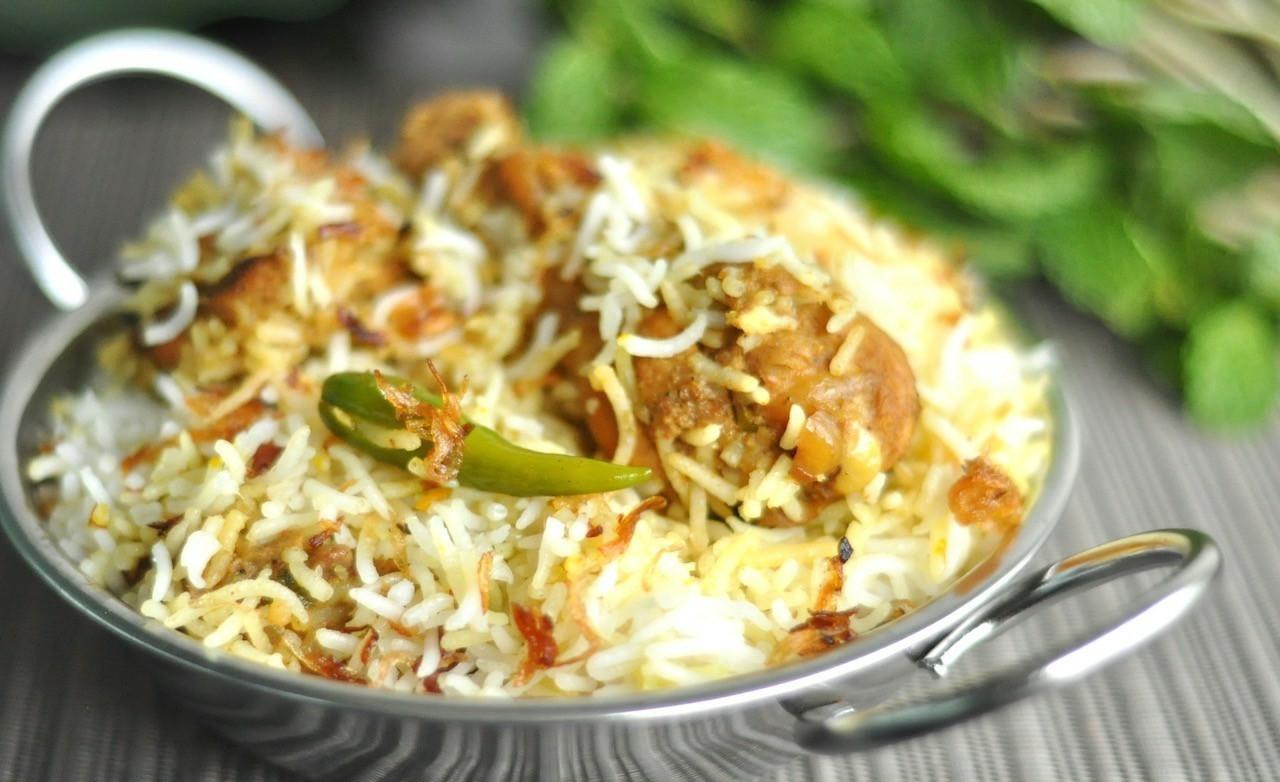Biryani: (34, 92, 1057, 695)
